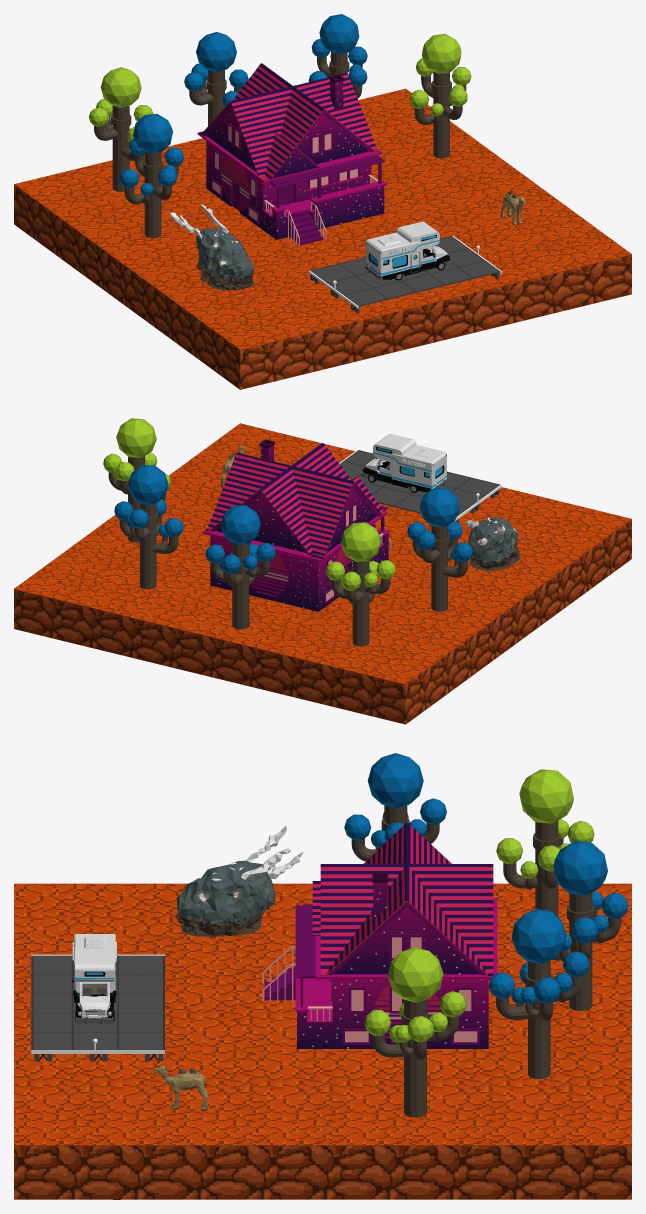
3 renders of one model, top to bottom at view 1: azimuth 30°, elevation 25°; view 2: azimuth 150°, elevation 25°; view 3: azimuth 270°, elevation 25°, orthographic. The views are drawn at different scales.
Visible parts, largest first — view 1: Cube.001, Cube.156, VEHICLES_CAMPER, OBJRANDOM_METEORITE, ANIMAL_CAMELLO; view 2: Cube.001, Cube.156, VEHICLES_CAMPER, OBJRANDOM_METEORITE; view 3: Cube.001, Cube.156, OBJRANDOM_METEORITE, VEHICLES_CAMPER, ANIMAL_CAMELLO.
Part boxes in pixels (x1,y1,x2,y2): Cube.001: (14,14,631,389); Cube.156: (197,63,387,246); VEHICLES_CAMPER: (365,221,451,280); OBJRANDOM_METEORITE: (170,204,254,290); ANIMAL_CAMELLO: (501,191,525,225); Cube.001: (14,418,631,724); Cube.156: (202,439,391,611); VEHICLES_CAMPER: (361,434,447,492); OBJRANDOM_METEORITE: (465,517,520,571); Cube.001: (14,753,631,1199); Cube.156: (262,822,497,1048); OBJRANDOM_METEORITE: (175,826,303,936); VEHICLES_CAMPER: (72,934,116,1024); ANIMAL_CAMELLO: (153,1064,207,1110).
Bounding box in the file's own units: 4000 × 1637 × 4000.
34 materials, 6 textured.
